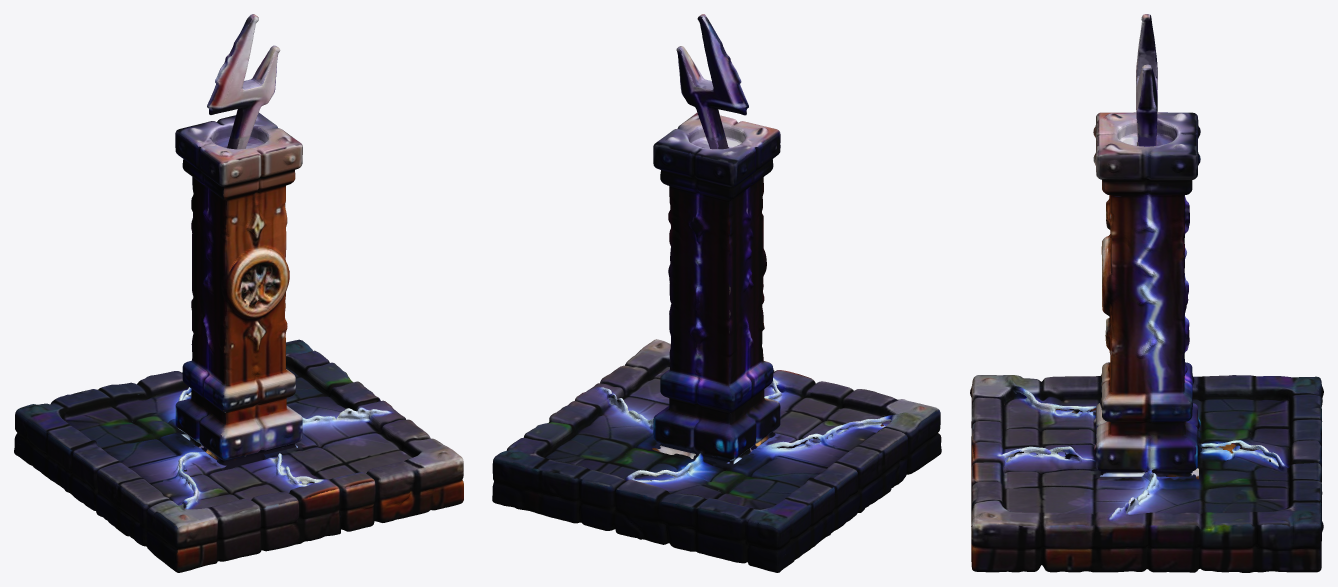
Rendered from thunder_paint.glb.
3 renders of one model, left to right at view 1: azimuth 30°, elevation 25°; view 2: azimuth 150°, elevation 25°; view 3: azimuth 270°, elevation 25°, orthographic. The views are drawn at different scales.
Parts seen in each view (by area): view 1: temp_mesh.ply; view 2: temp_mesh.ply; view 3: temp_mesh.ply.
Boxes of the visible parts, <box> form: temp_mesh.ply: <box>14,14,463,572</box>; temp_mesh.ply: <box>492,14,941,572</box>; temp_mesh.ply: <box>970,14,1323,572</box>.
Size of the model in its own units: 1.29 by 1.97 by 1.29.
1 material, 1 textured.
